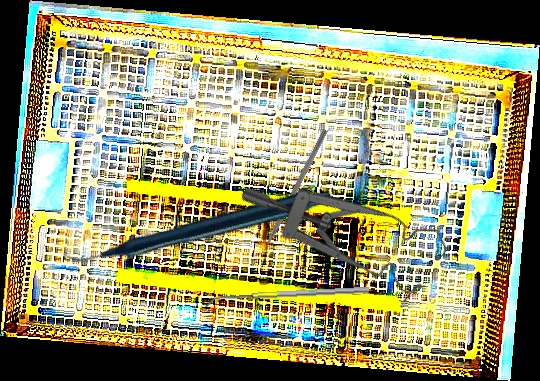Chopper: (250, 125, 328, 262)
Handpiece: (60, 106, 334, 344)
Spatula Surgical: (204, 286, 370, 308)
Speculum: (238, 114, 459, 333)
